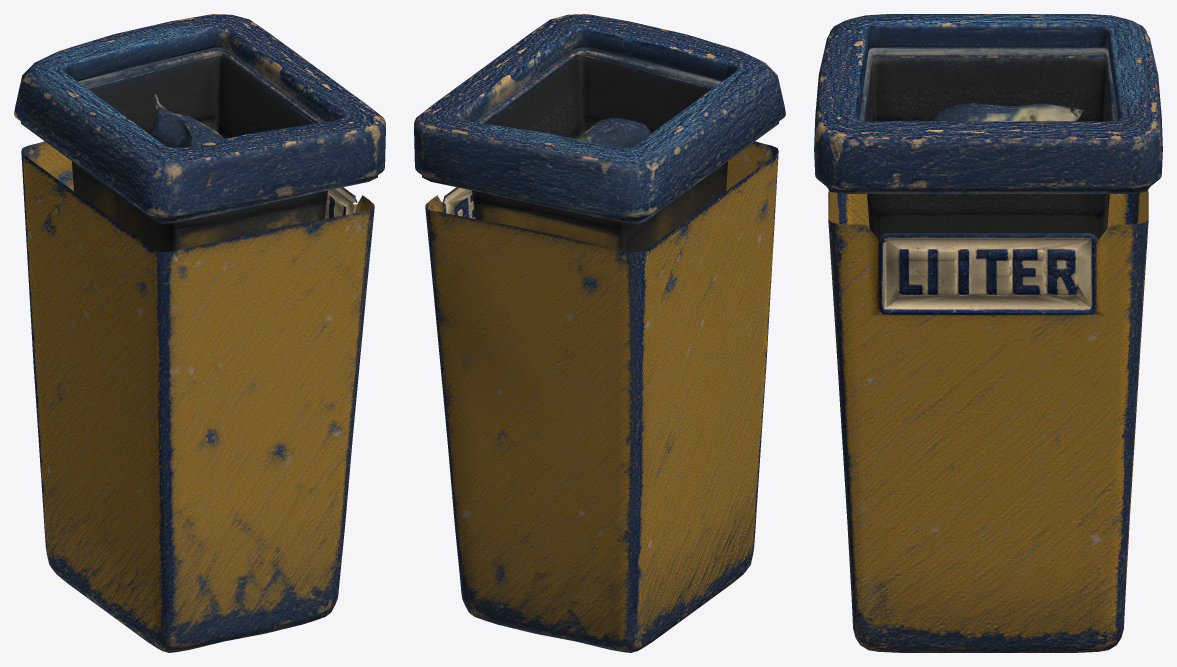
Rendered from Litter.fbx.
The picture shows the model from 3 angles, left to right: view 1: azimuth 30°, elevation 25°; view 2: azimuth 150°, elevation 25°; view 3: azimuth 270°, elevation 25°; orthographic projection. The views are drawn at different scales.
Parts seen in each view (by area): view 1: tripo_node_5c780f53-885a-49a9-b2b5-a52343340e2d; view 2: tripo_node_5c780f53-885a-49a9-b2b5-a52343340e2d; view 3: tripo_node_5c780f53-885a-49a9-b2b5-a52343340e2d.
Part boxes in pixels (left/top/right/bottom): tripo_node_5c780f53-885a-49a9-b2b5-a52343340e2d: left=14, top=14, right=385, bottom=652; tripo_node_5c780f53-885a-49a9-b2b5-a52343340e2d: left=414, top=14, right=785, bottom=652; tripo_node_5c780f53-885a-49a9-b2b5-a52343340e2d: left=814, top=14, right=1162, bottom=652.
Bounding box in the file's own units: 49.32 × 100 × 57.73.
1 material, 1 textured.
